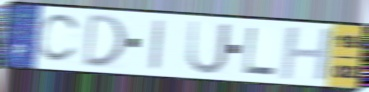C: (36, 13, 83, 65)
D: (81, 12, 129, 69)
H: (278, 26, 336, 82)
I: (148, 17, 167, 73)
L: (241, 25, 277, 77)
U: (185, 19, 233, 76)
